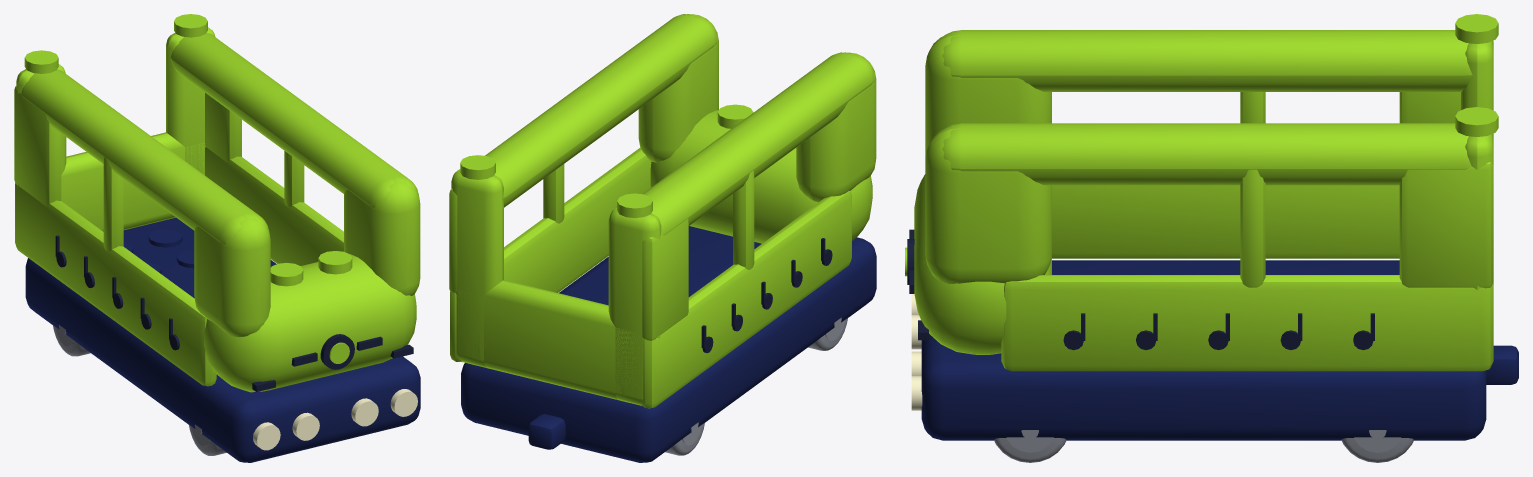
Rendered from zug.glb.
3 renders of one model, left to right at view 1: azimuth 30°, elevation 25°; view 2: azimuth 150°, elevation 25°; view 3: azimuth 270°, elevation 25°, orthographic. The views are drawn at different scales.
Visible parts, largest first — view 1: body, wheel-back-right, wheel-front-right; view 2: body, wheel-back-right, wheel-front-right; view 3: body, wheel-back-left, wheel-front-left.
Boxes of the visible parts, <box> form: body: <box>14,14,420,462</box>; wheel-back-right: <box>53,325,90,356</box>; wheel-front-right: <box>189,424,226,455</box>; body: <box>449,14,876,462</box>; wheel-back-right: <box>665,422,704,455</box>; wheel-front-right: <box>808,317,847,350</box>; body: <box>905,14,1518,440</box>; wheel-back-left: <box>1341,430,1413,462</box>; wheel-front-left: <box>994,430,1066,462</box>.
Size of the model in its own units: 0.7252 by 0.9163 by 1.5.
